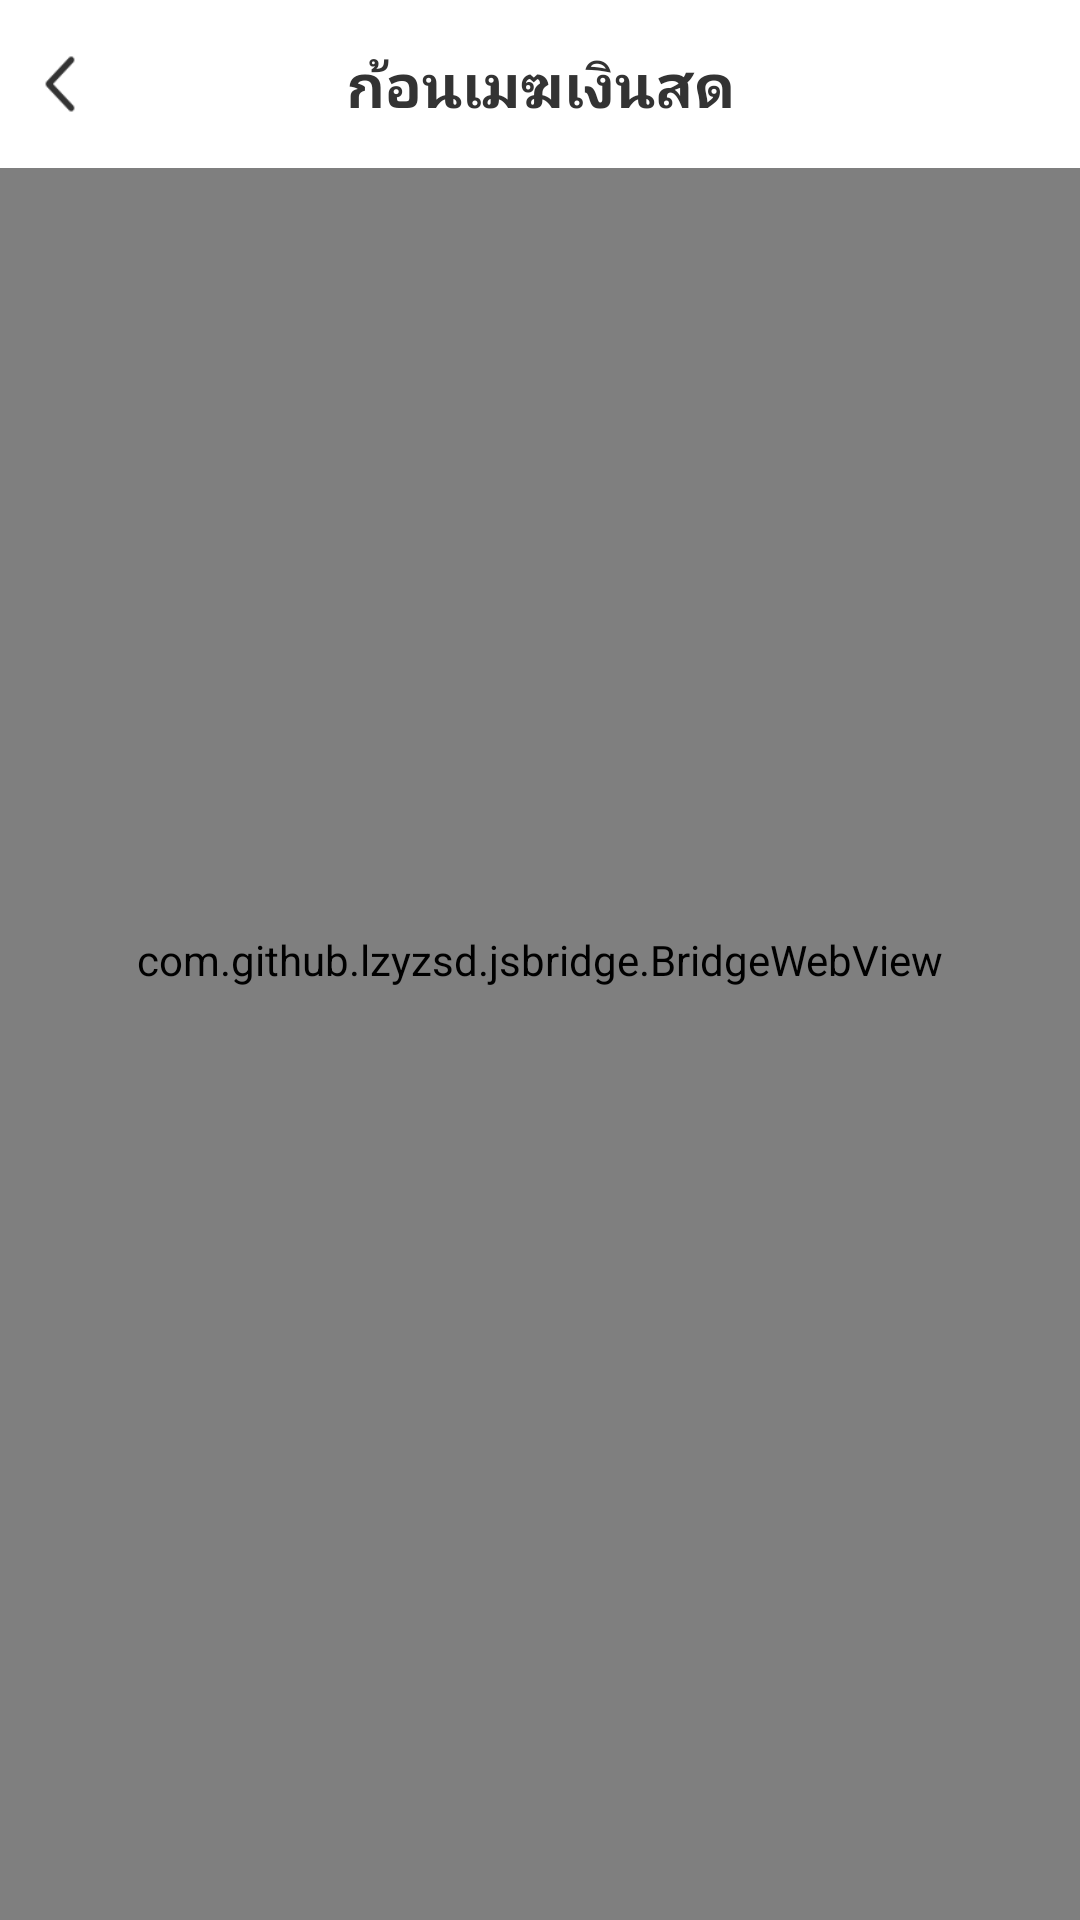

Named icons in this screenshot (1080*1920) and their bounding boxes, (x1, y1, x2, y2):
back: (45, 56, 75, 112)
